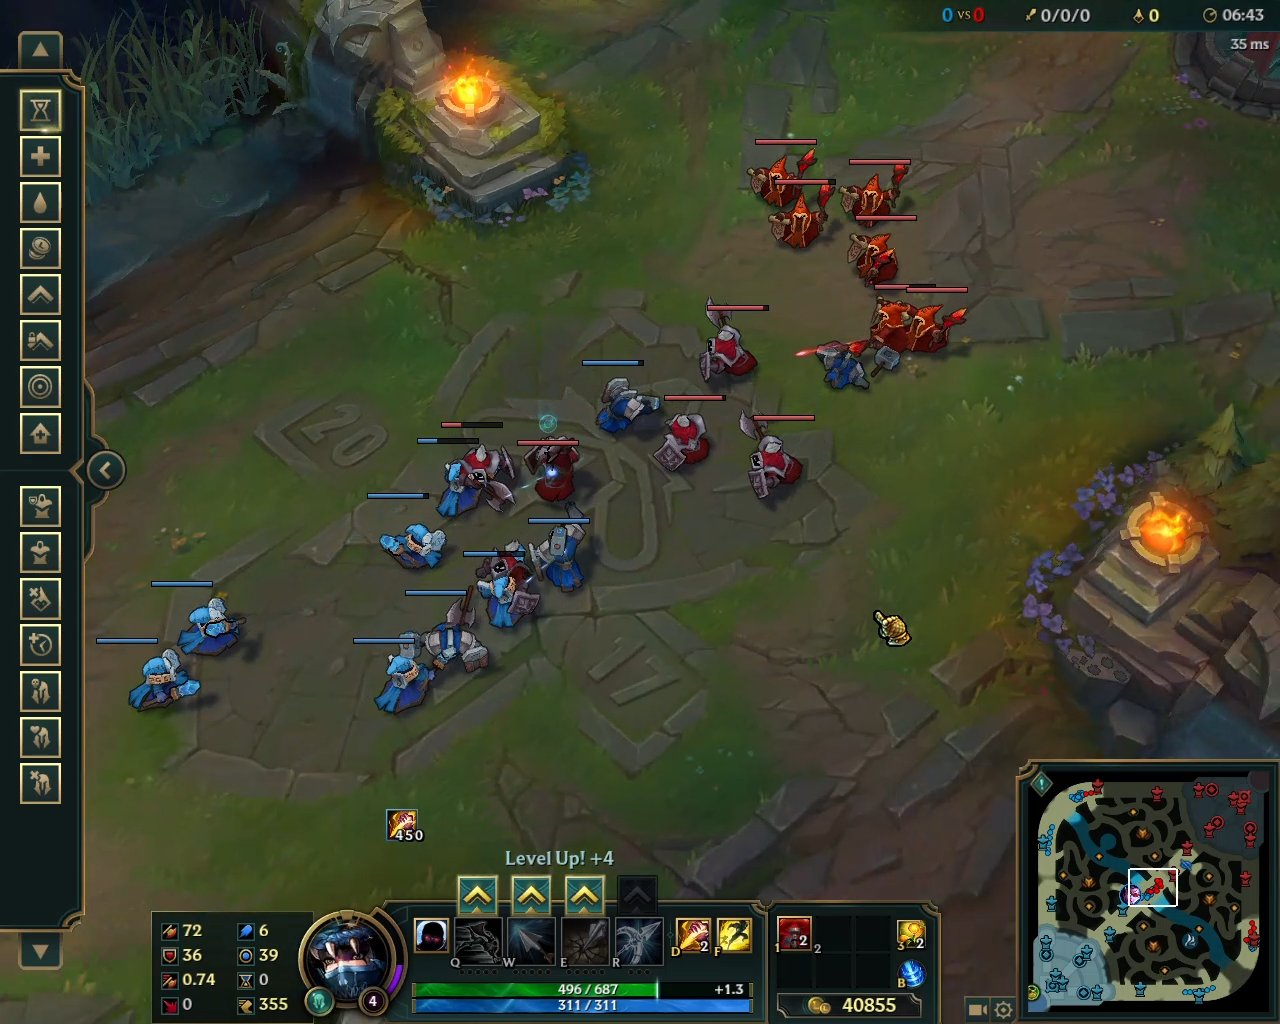EnemyMinion: (734, 413, 816, 504), (697, 296, 776, 383), (440, 420, 516, 509), (835, 156, 916, 233), (652, 392, 727, 475), (842, 215, 920, 287), (746, 137, 821, 209), (767, 178, 841, 250), (859, 283, 937, 347), (516, 435, 584, 506), (904, 286, 968, 354)
